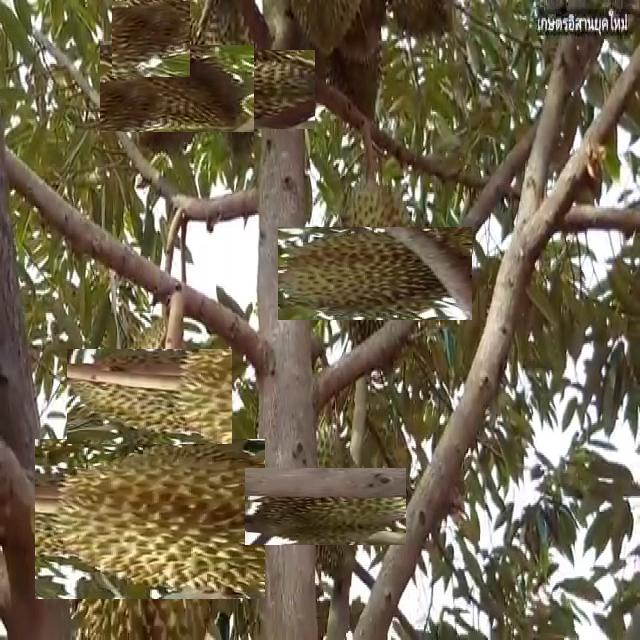durian: (53, 421, 248, 617), (303, 201, 447, 345), (85, 331, 215, 462), (170, 28, 293, 152), (116, 28, 238, 148), (266, 447, 385, 567), (113, 0, 190, 78)
